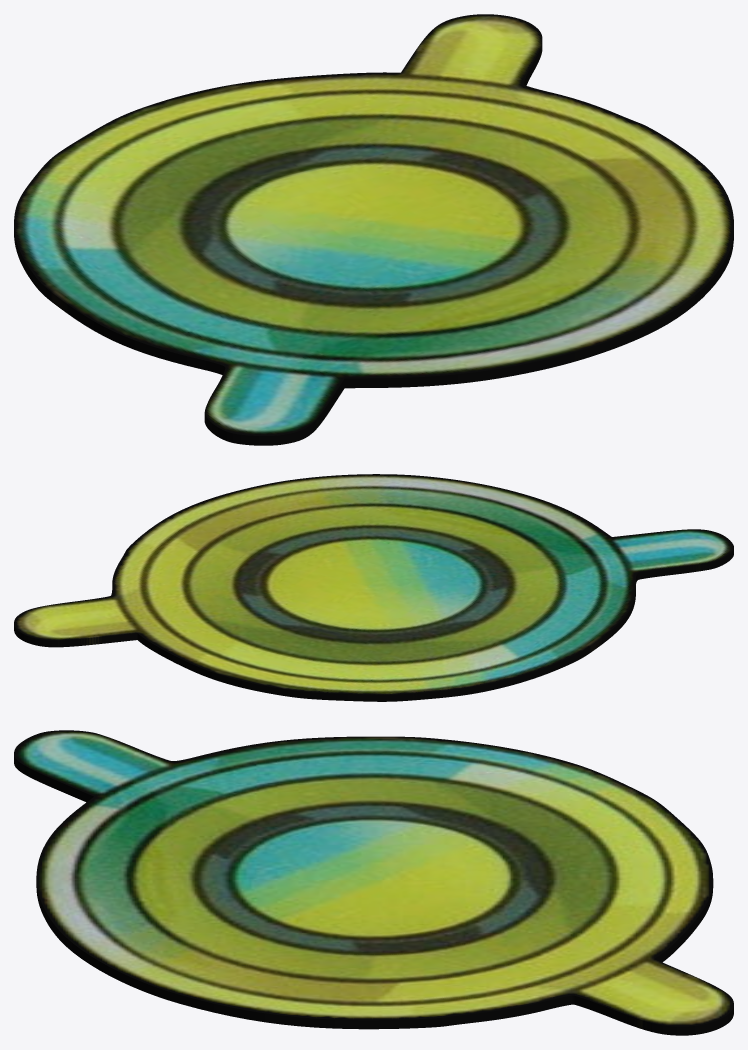
The picture shows the model from 3 angles, top to bottom: view 1: azimuth 30°, elevation 25°; view 2: azimuth 150°, elevation 25°; view 3: azimuth 270°, elevation 25°; orthographic projection. The views are drawn at different scales.
Visible parts, largest first — view 1: path1587; view 2: path1587; view 3: path1587.
Part boxes in pixels (<box>): path1587: <box>14,14,733,445</box>; path1587: <box>14,474,733,701</box>; path1587: <box>14,730,733,1035</box>.
Bounding box in the file's own units: 70.65 × 1 × 72.55.
Materials: 1 (1 with a texture image).
